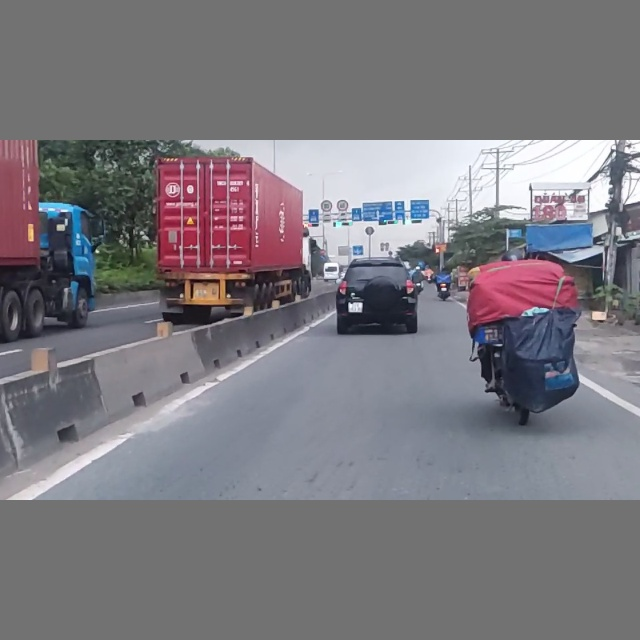P.127*60: (336, 199, 349, 212)
P.127*80: (321, 200, 333, 212)
